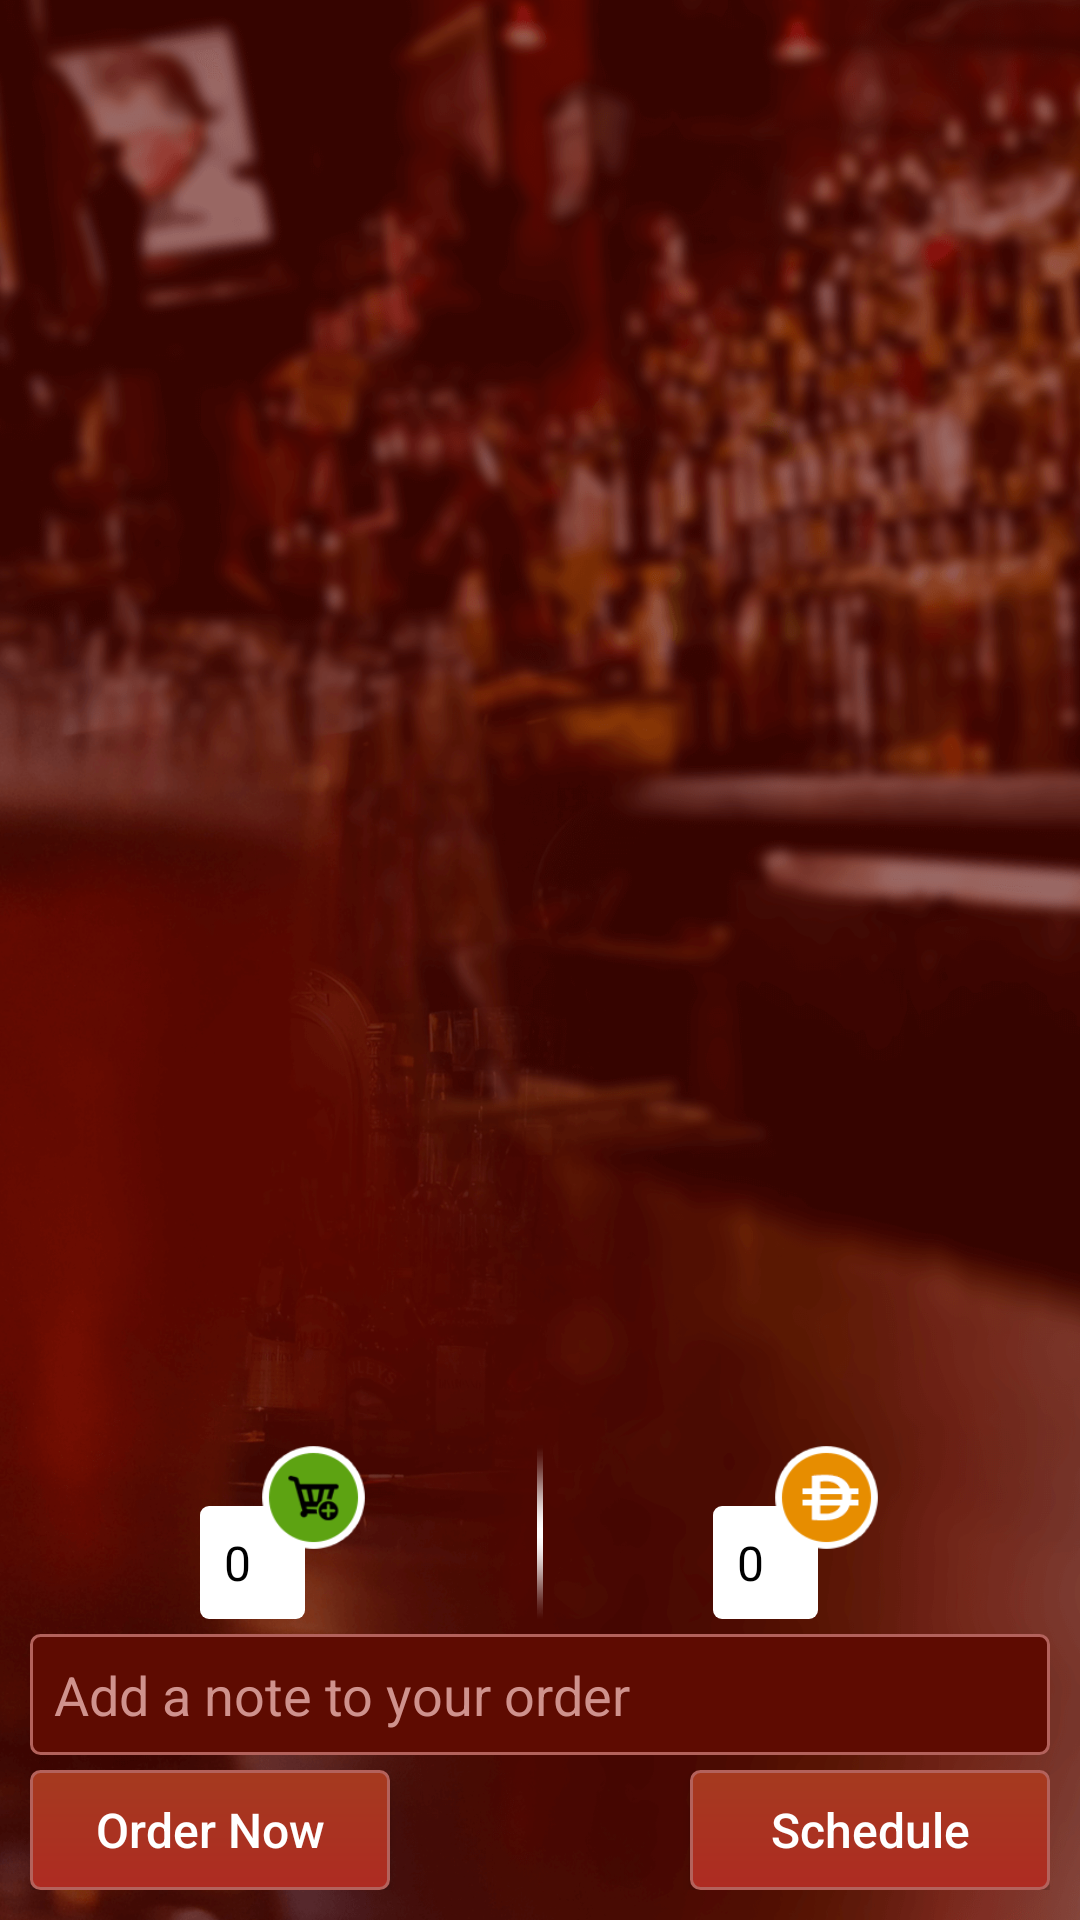

Where icons sit on this 1080x1920 app screen, as (x1, y1, x2, y2):
cart: (261, 1446, 366, 1550)
